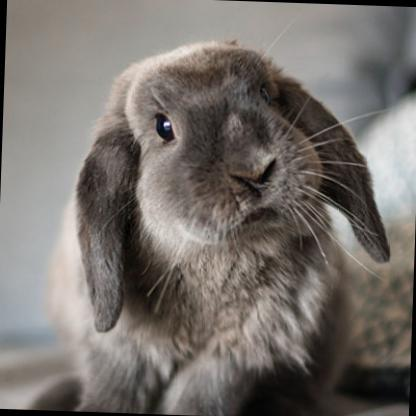rabbit: (22, 16, 408, 415)
